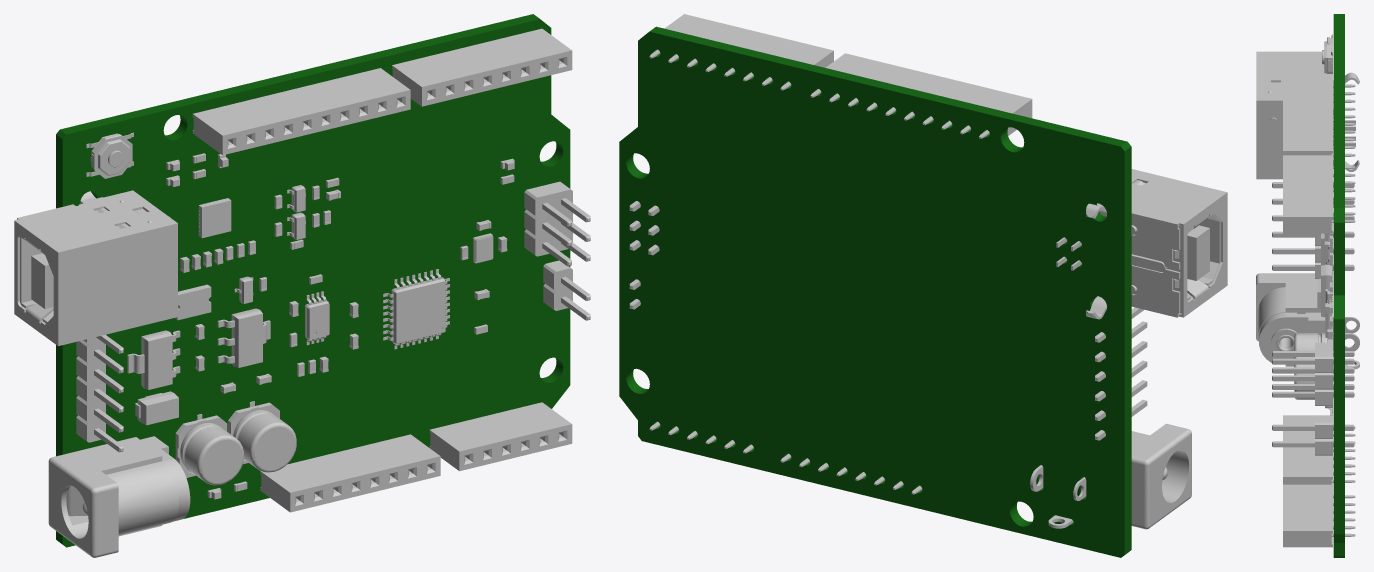
Rendered from arduino_uno.glb.
3 views of the same model, side by side, from view 1: azimuth 30°, elevation 25°; view 2: azimuth 150°, elevation 25°; view 3: azimuth 270°, elevation 25° (orthographic). The views are drawn at different scales.
Parts seen in each view (by area): view 1: empty_80, empty_41, empty_44, empty_13, empty_15, empty_14, empty_16, empty_10, empty_9, empty_12, empty_29, empty_32 (+10 smaller); view 2: empty_80, empty_41, empty_44, empty_13, empty_14, empty_42, empty_10; view 3: empty_80, empty_41, empty_13, empty_14, empty_16, empty_12, empty_44, empty_15, empty_10, empty_46, empty_11, empty_47 (+8 smaller).
Boxes of the visible parts, x1=… form: empty_80: x1=56, y1=14, x2=570, y2=547; empty_41: x1=14, y1=190, x2=177, y2=346; empty_44: x1=48, y1=437, x2=178, y2=557; empty_13: x1=192, y1=68, x2=410, y2=155; empty_15: x1=260, y1=434, x2=440, y2=512; empty_14: x1=392, y1=28, x2=572, y2=106; empty_16: x1=429, y1=402, x2=572, y2=471; empty_10: x1=76, y1=334, x2=123, y2=452; empty_9: x1=383, y1=269, x2=449, y2=349; empty_12: x1=524, y1=181, x2=590, y2=266; empty_29: x1=175, y1=414, x2=244, y2=485; empty_32: x1=228, y1=401, x2=296, y2=472; empty_80: x1=619, y1=26, x2=1131, y2=557; empty_41: x1=1086, y1=169, x2=1227, y2=319; empty_44: x1=1131, y1=423, x2=1191, y2=529; empty_13: x1=810, y1=53, x2=1032, y2=138; empty_14: x1=649, y1=14, x2=833, y2=90; empty_42: x1=1099, y1=180, x2=1220, y2=313; empty_10: x1=1095, y1=307, x2=1147, y2=440; empty_80: x1=1333, y1=14, x2=1344, y2=557; empty_41: x1=1256, y1=51, x2=1359, y2=179; empty_13: x1=1283, y1=74, x2=1355, y2=156; empty_14: x1=1283, y1=155, x2=1355, y2=233; empty_16: x1=1283, y1=484, x2=1355, y2=547; empty_12: x1=1272, y1=342, x2=1354, y2=405; empty_44: x1=1256, y1=273, x2=1320, y2=366; empty_15: x1=1283, y1=415, x2=1355, y2=484; empty_10: x1=1272, y1=182, x2=1354, y2=278; empty_46: x1=1259, y1=312, x2=1332, y2=364; empty_11: x1=1272, y1=416, x2=1354, y2=455; empty_47: x1=1271, y1=328, x2=1359, y2=358.
Bounding box in the file's own units: 75.41 × 53.34 × 14.49.
